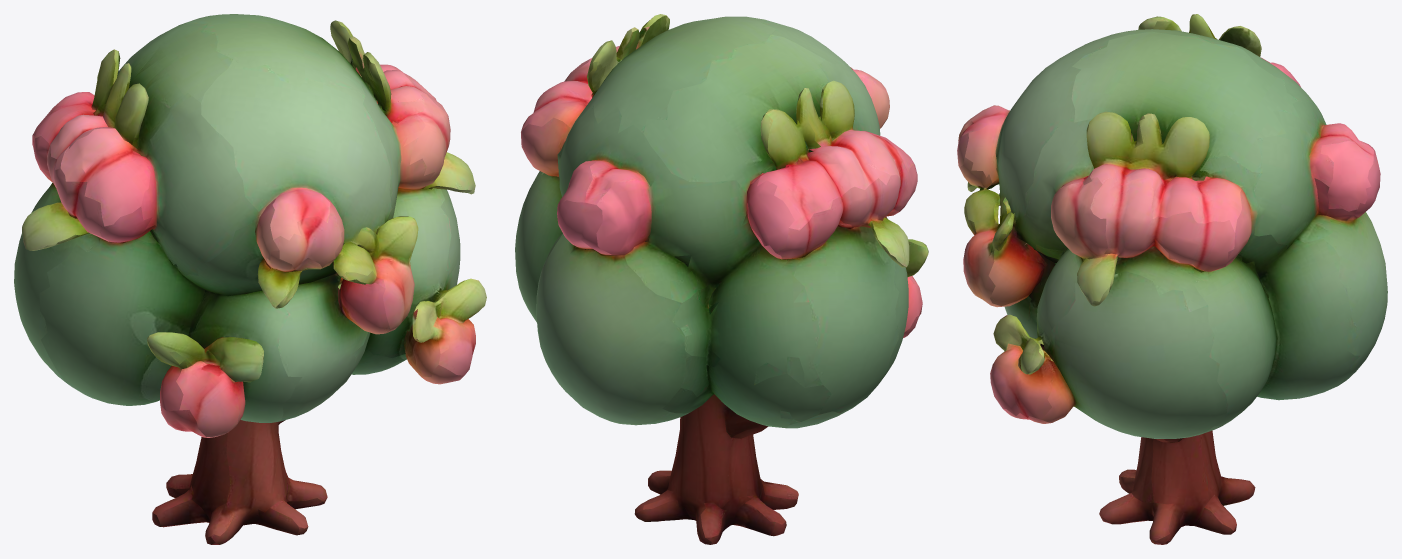
File: fruit_tree_peach.glb
The picture shows the model from 3 angles, left to right: view 1: azimuth 30°, elevation 25°; view 2: azimuth 150°, elevation 25°; view 3: azimuth 270°, elevation 25°; orthographic projection. The views are drawn at different scales.
Parts seen in each view (by area): view 1: fruit_tree_peach_s71; view 2: fruit_tree_peach_s71; view 3: fruit_tree_peach_s71.
Part boxes in pixels (x1,y1,x2,y2): fruit_tree_peach_s71: [14, 14, 486, 544]; fruit_tree_peach_s71: [515, 14, 928, 544]; fruit_tree_peach_s71: [957, 14, 1387, 544].
Bounding box in the file's own units: 0.8637 × 1 × 0.8383.
Materials: 1 (1 with a texture image).
